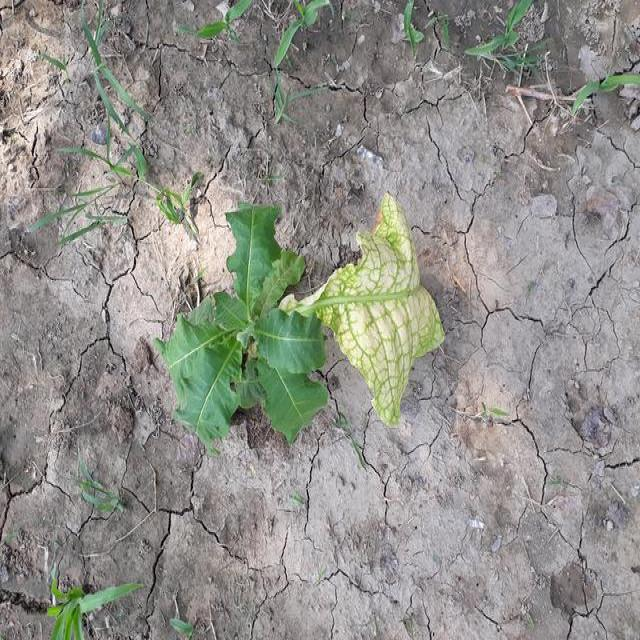crop: (153, 196, 445, 444)
